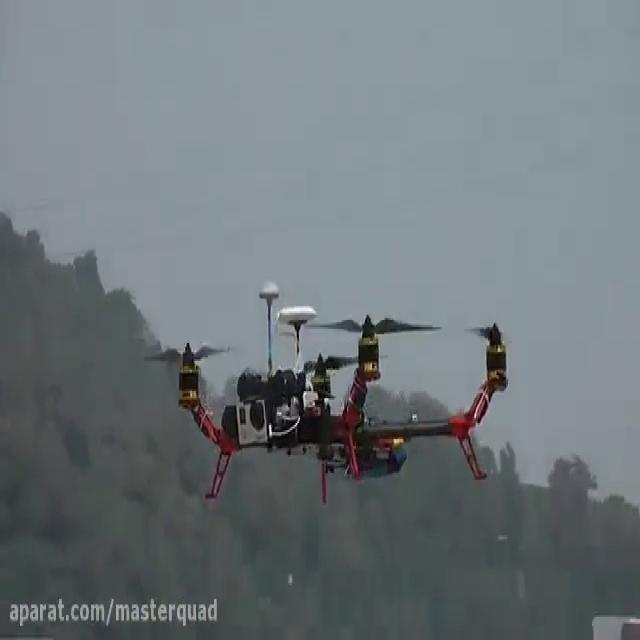drone: (140, 276, 515, 504)
